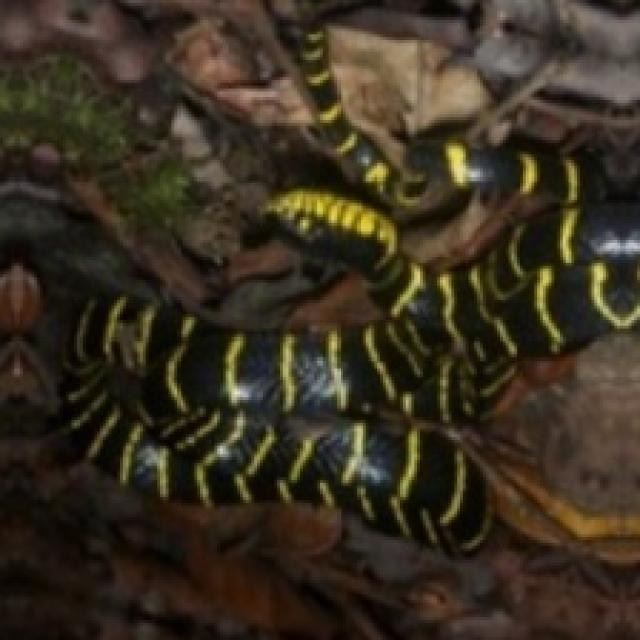mangrove cat snake: (66, 26, 640, 552)
